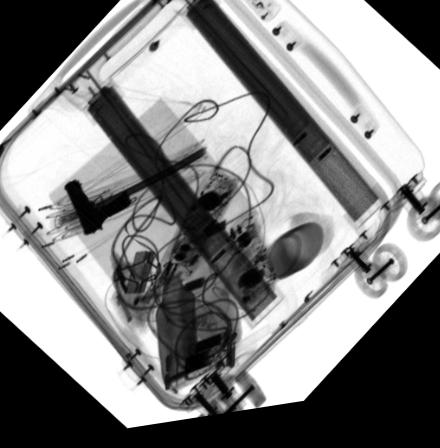Gun: (63, 180, 129, 237)
